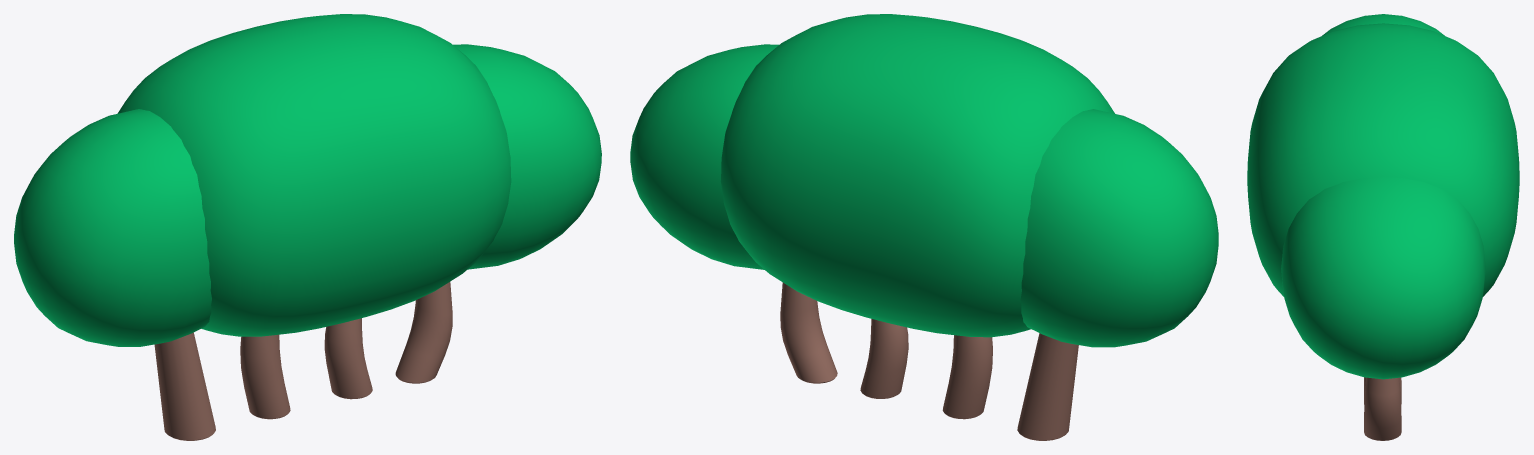
File: Town_11_Bush_1.glb
The picture shows the model from 3 angles, left to right: view 1: azimuth 30°, elevation 25°; view 2: azimuth 150°, elevation 25°; view 3: azimuth 270°, elevation 25°; orthographic projection. The views are drawn at different scales.
Visible parts, largest first — view 1: Town_11_Bush_1; view 2: Town_11_Bush_1; view 3: Town_11_Bush_1.
Boxes of the visible parts, x1=… form: Town_11_Bush_1: x1=14, y1=14, x2=601, y2=440; Town_11_Bush_1: x1=630, y1=14, x2=1218, y2=440; Town_11_Bush_1: x1=1247, y1=14, x2=1519, y2=440.
Bounding box in the file's own units: 1.95 × 1.22 × 0.908.
1 material, 1 textured.
